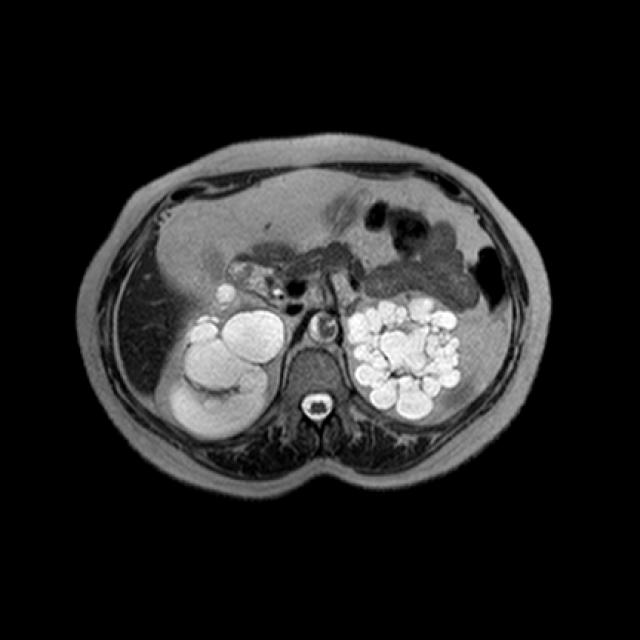sag: (165, 282, 286, 442)
sol: (346, 290, 463, 422)
